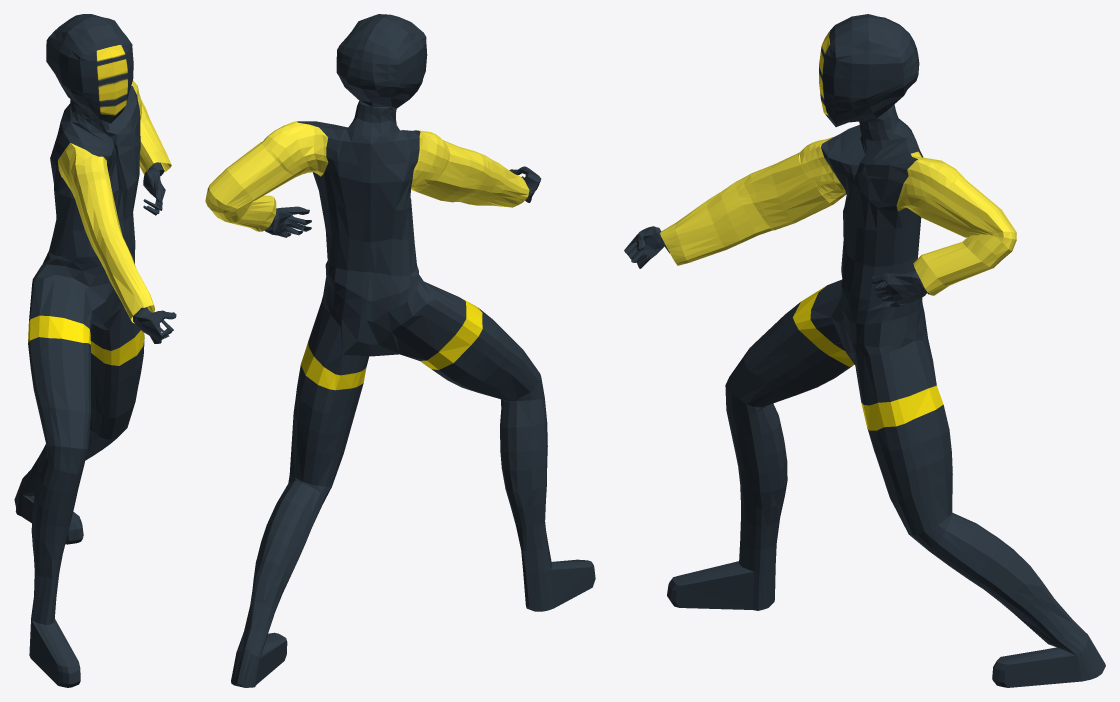
Rendered from Sentry_WL_000015.obj.
The picture shows the model from 3 angles, left to right: view 1: azimuth 30°, elevation 25°; view 2: azimuth 150°, elevation 25°; view 3: azimuth 270°, elevation 25°; orthographic projection. The views are drawn at different scales.
Visible parts, largest first — view 1: Cube; view 2: Cube; view 3: Cube.
Boxes of the visible parts, x1=… form: Cube: x1=14, y1=14, x2=176, y2=687; Cube: x1=205, y1=14, x2=595, y2=687; Cube: x1=624, y1=14, x2=1105, y2=687.
Bounding box in the file's own units: 1.47 × 3.59 × 2.43.
